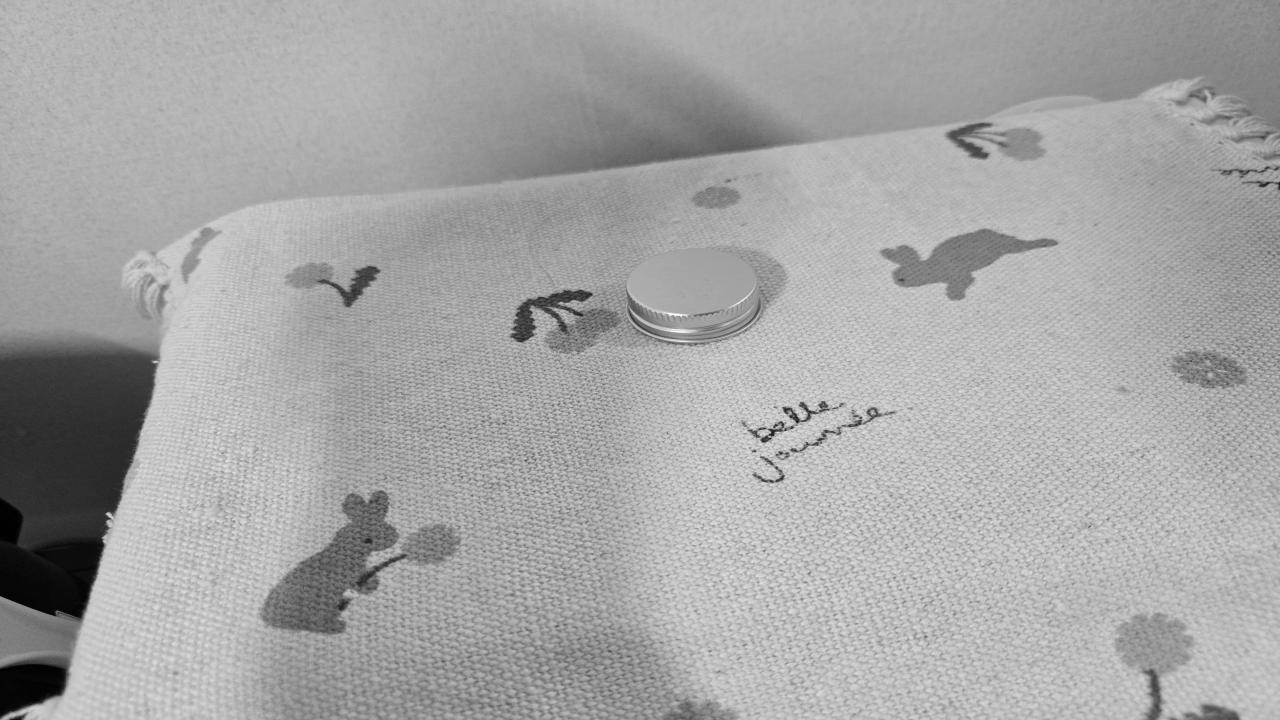bottle_cap: (626, 246, 766, 346)
